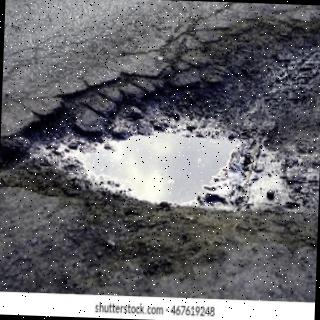pothole: (0, 19, 320, 222)
